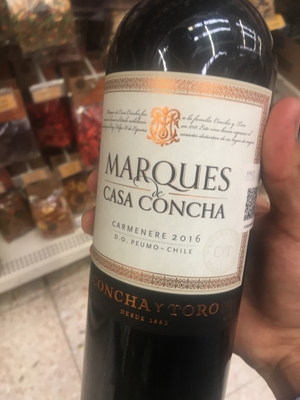marques de casa concha carmenere: (78, 28, 277, 388)
